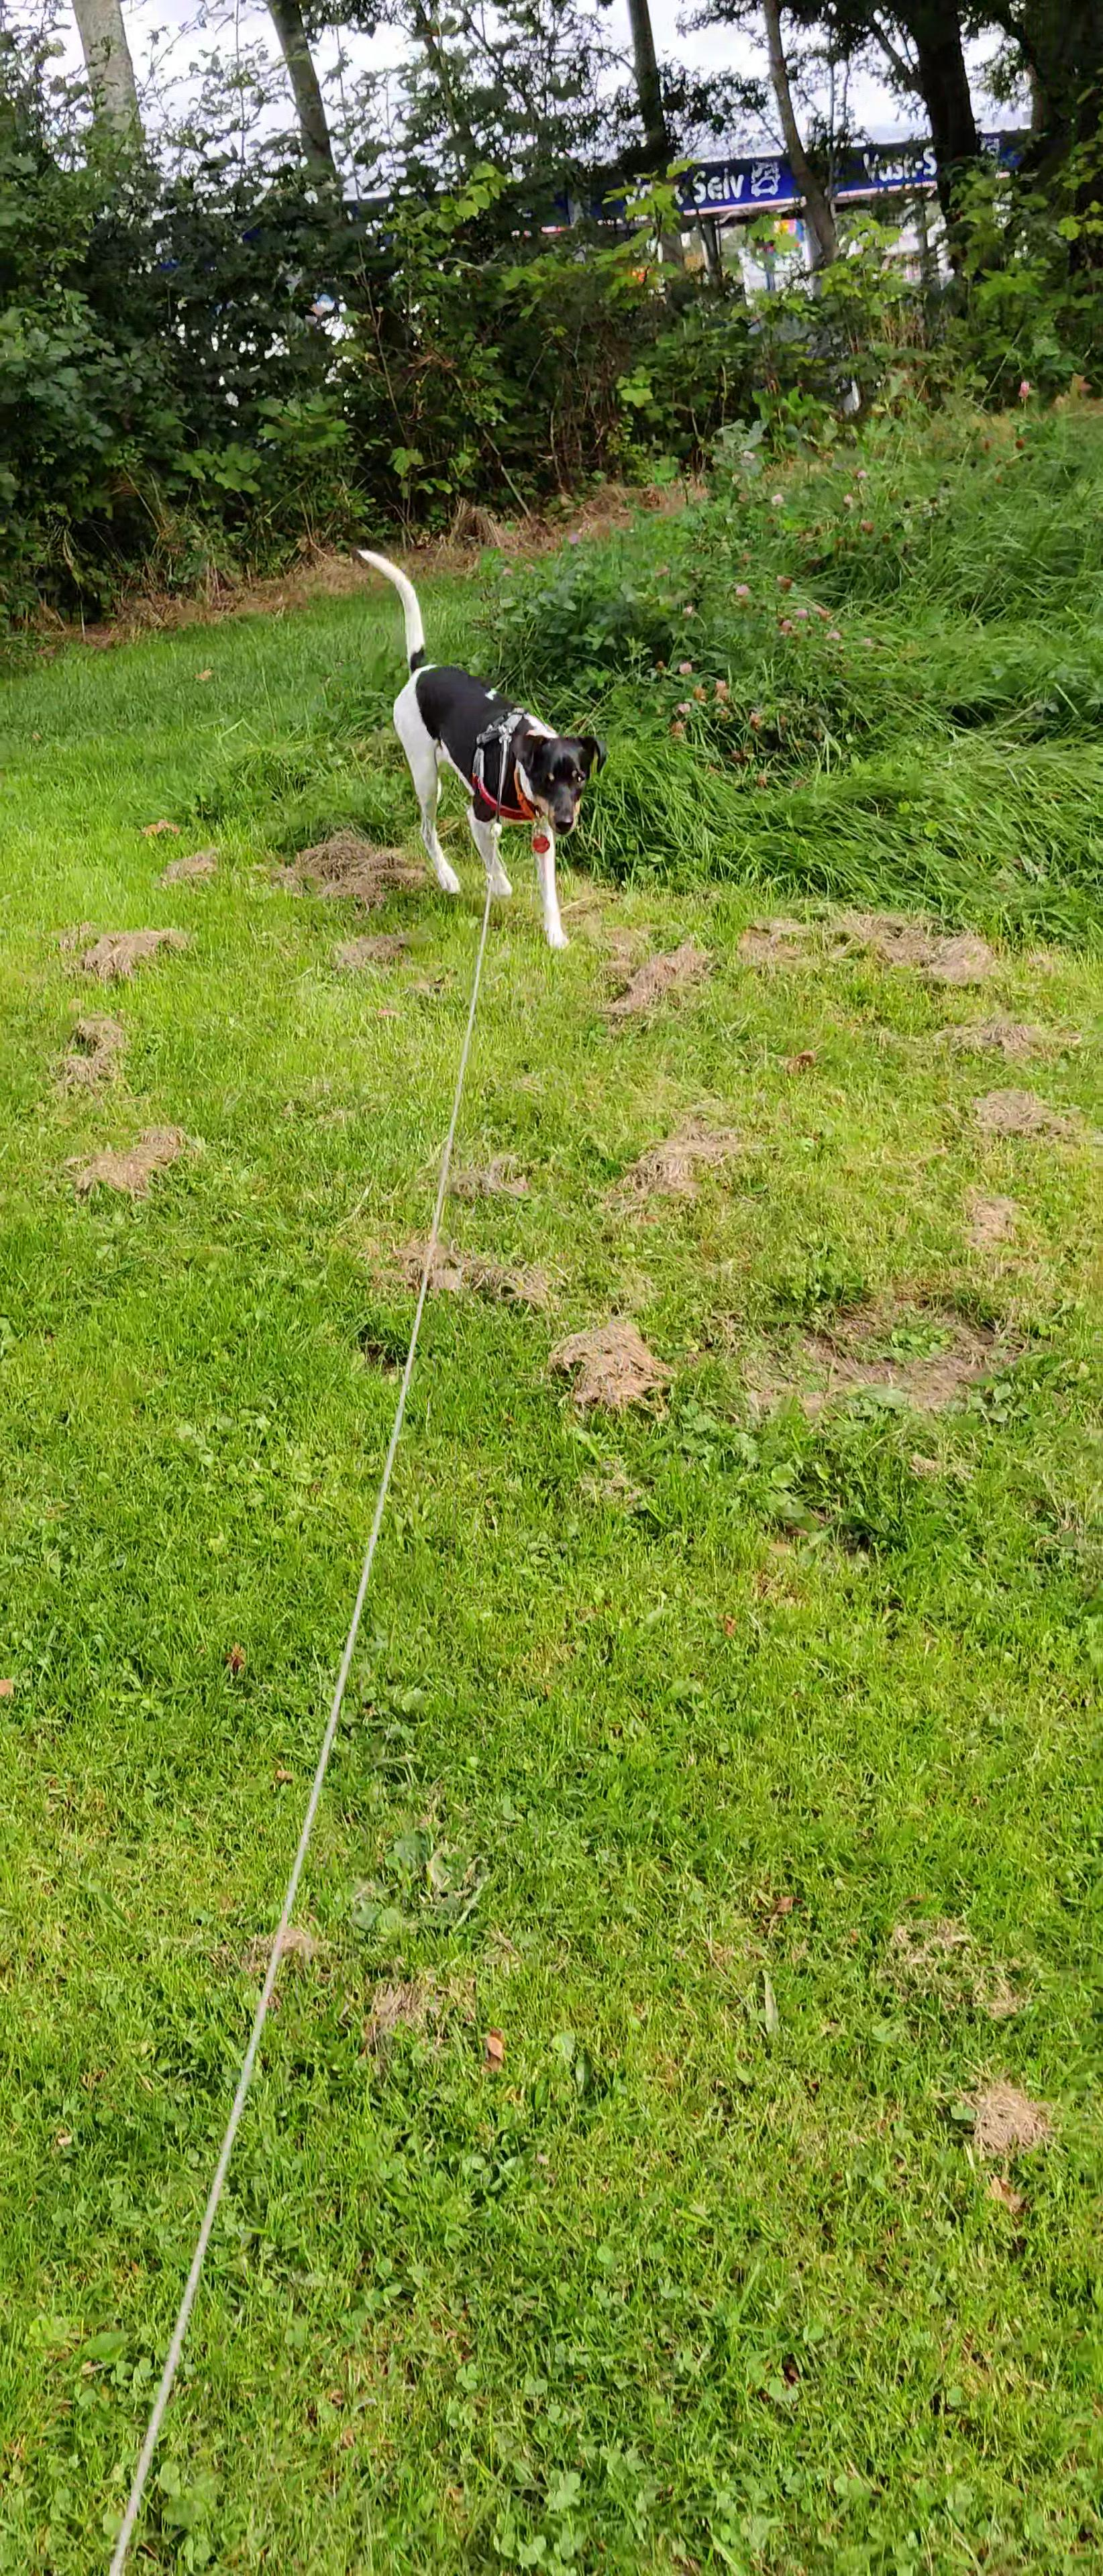Dog: (334, 537, 620, 961)
